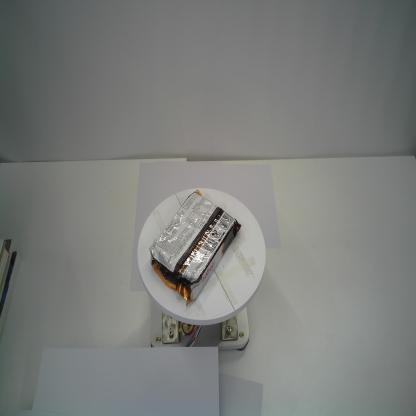Dessert: (148, 188, 244, 309)
